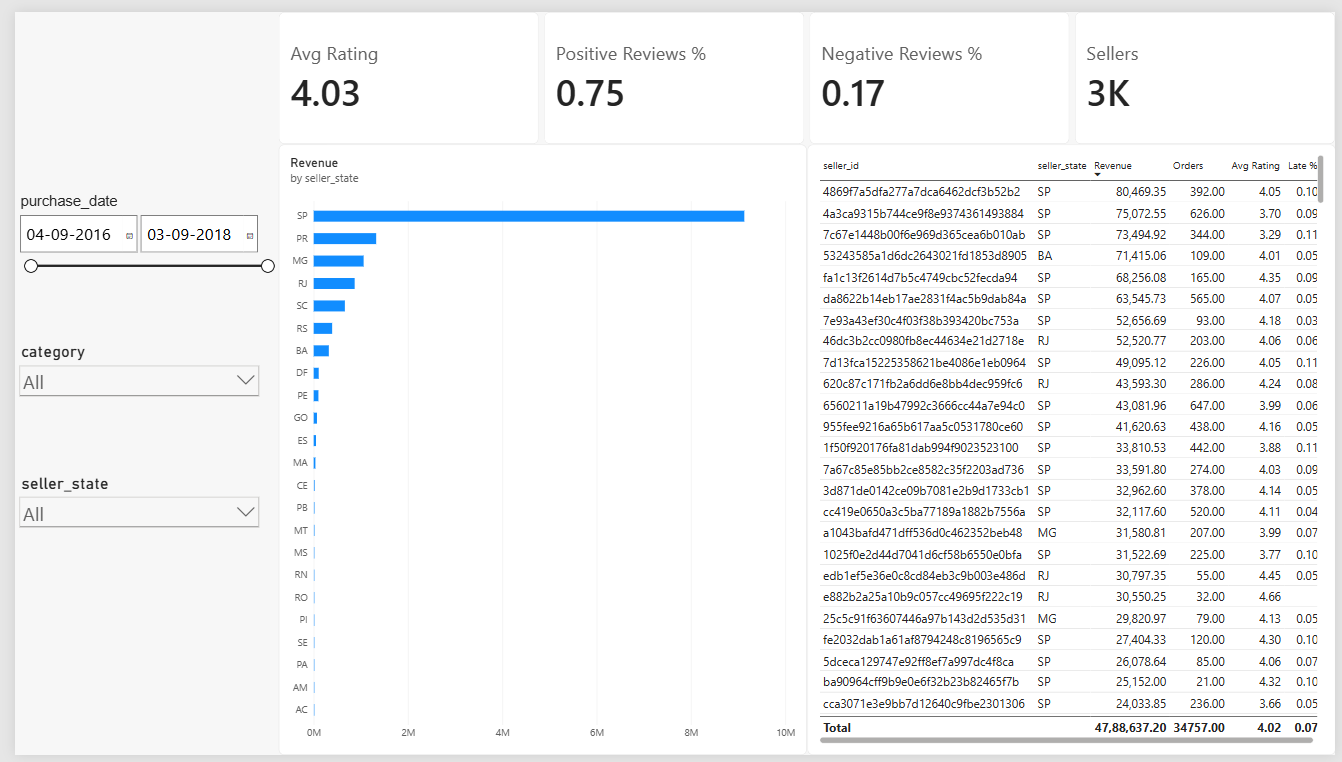

This screenshot's page, from the dashboard's own definition file:
{"tool":"powerbi","page":{"name":"Review & Sellers","canvas":[1920,1080],"ordinal":4},"visuals":[{"type":"tableEx","fields":{"Values":["public bi_fact_sales.seller_id","public bi_fact_sales.seller_state","DimDate.Revenue","DimDate.Orders","DimDate.Avg Rating","DimDate.Late %"]},"box":[1152,192,768,888],"z":0},{"type":"barChart","fields":{"Category":["public bi_fact_sales.seller_state"],"Y":["DimDate.Revenue"]},"box":[384,192,768,888],"z":1000},{"type":"slicer","fields":{"Values":["public bi_fact_sales.purchase_date"]},"box":[0,264,384,168],"z":2000,"group":"g1"},{"type":"slicer","fields":{"Values":["public bi_fact_sales.category"]},"box":[0,480,360,168],"z":3000,"group":"g1"},{"type":"cardVisual","fields":{"Data":["DimDate.Avg Rating","DimDate.Positive Reviews %","DimDate.Negative Reviews %","DimDate.Sellers"]},"box":[384,0,1536,192],"z":4000},{"type":"slicer","fields":{"Values":["public bi_fact_sales.seller_state"]},"box":[0,672,360,168],"z":6000,"group":"g1"},{"type":"group","id":"g1","title":"Group 1","box":[0,264,384,576],"z":6001}]}

Visuals, with their boxes in screenshot pixels (x1, y1, x2, y2), scaled from the page's 1920x1080 canvas onto the 1342x762 screenshot:
tableEx - public bi_fact_sales.seller_id x public bi_fact_sales.seller_state: [805, 135, 1341, 761]
barChart - public bi_fact_sales.seller_state x DimDate.Revenue: [268, 135, 805, 761]
slicer - public bi_fact_sales.purchase_date: [0, 186, 268, 305]
slicer - public bi_fact_sales.category: [0, 339, 252, 457]
cardVisual - DimDate.Avg Rating x DimDate.Positive Reviews %: [268, 0, 1341, 135]
slicer - public bi_fact_sales.seller_state: [0, 474, 252, 593]
"Group 1" group: [0, 186, 268, 593]
